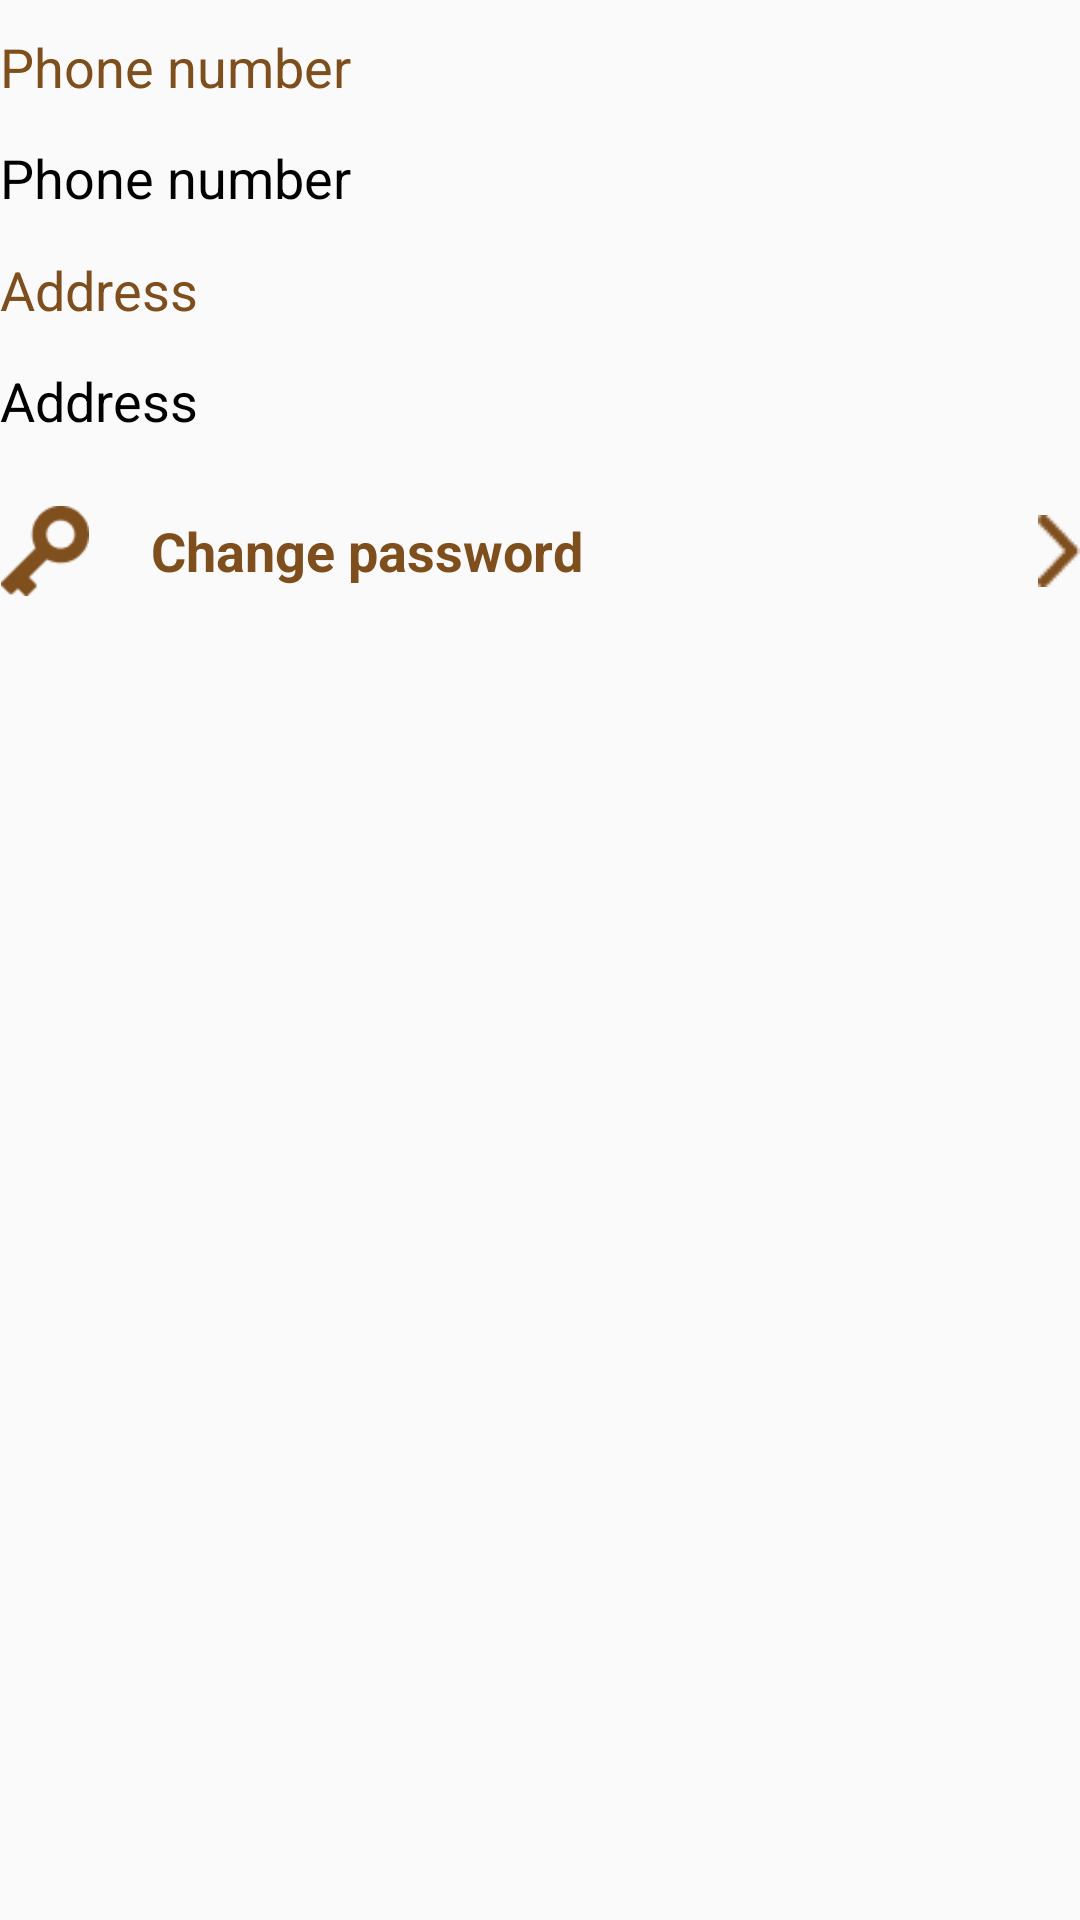

Screen size 1080w x 1920h. Icon name, then its center in pixels as [x,y]:
arrow right: [1059,551]
